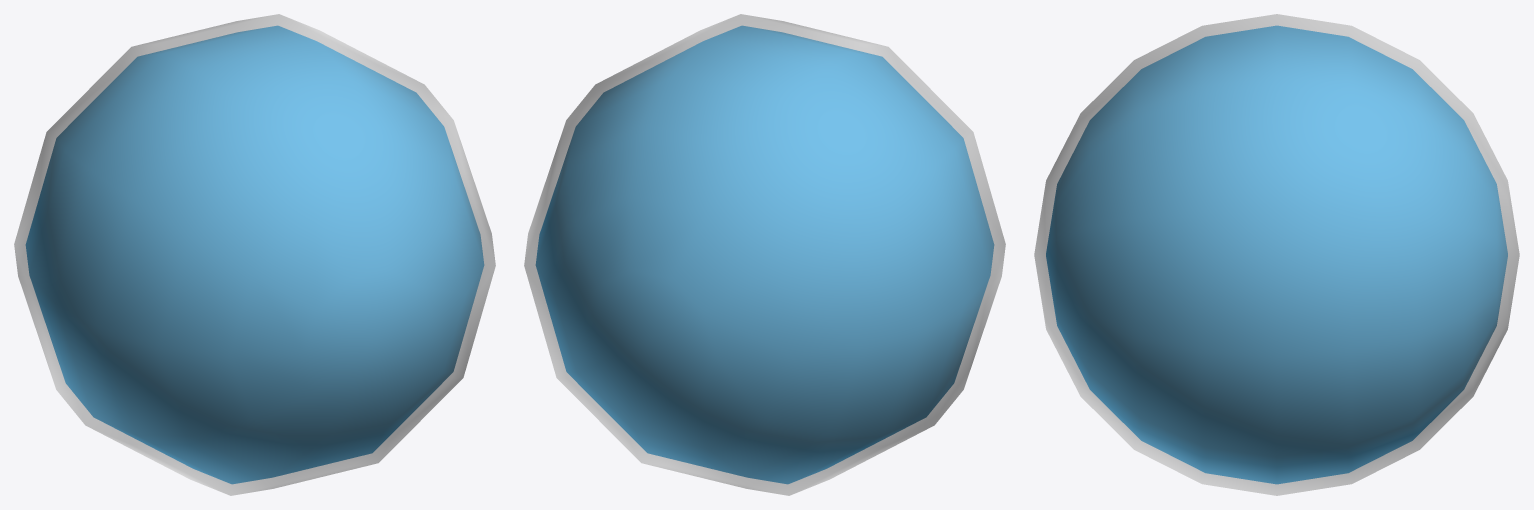
File: snowball_big.fbx
The picture shows the model from 3 angles, left to right: view 1: azimuth 30°, elevation 25°; view 2: azimuth 150°, elevation 25°; view 3: azimuth 270°, elevation 25°; orthographic projection.
Parts seen in each view (by area): view 1: snowball_big; view 2: snowball_big; view 3: snowball_big.
Part boxes in pixels (x1,y1,x2,y2): snowball_big: (14, 14, 495, 495); snowball_big: (524, 14, 1005, 495); snowball_big: (1034, 14, 1519, 495).
Bounding box in the file's own units: 1.5 × 1.43 × 1.5.
